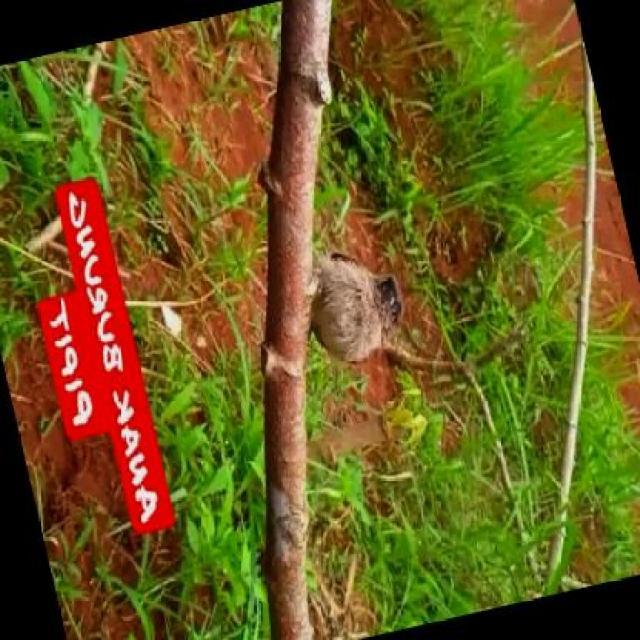Bird: (302, 244, 433, 384)
